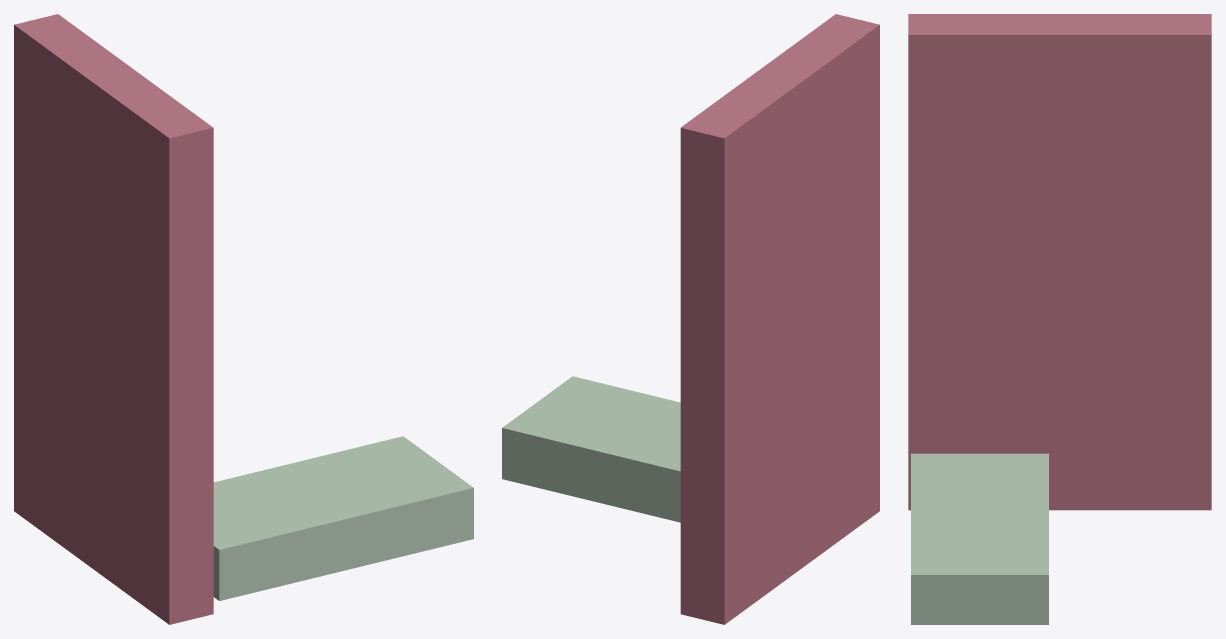
File: 199518_pred.glb
3 views of the same model, side by side, from view 1: azimuth 30°, elevation 25°; view 2: azimuth 150°, elevation 25°; view 3: azimuth 270°, elevation 25° (orthographic). The views are drawn at different scales.
Parts seen in each view (by area): view 1: world; view 2: world; view 3: world.
Boxes of the visible parts, <box> form: world: <box>14,14,473,624</box>; world: <box>502,14,879,624</box>; world: <box>908,14,1211,624</box>.
Bounding box in the file's own units: 6.25 × 9.5 × 5.5.
